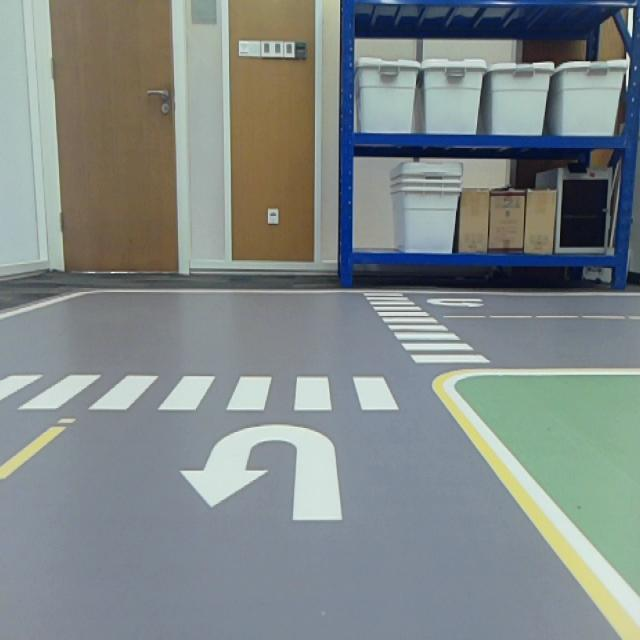left_lane: (0, 416, 75, 484)
right_lane: (432, 386, 640, 640), (1, 291, 91, 322)
